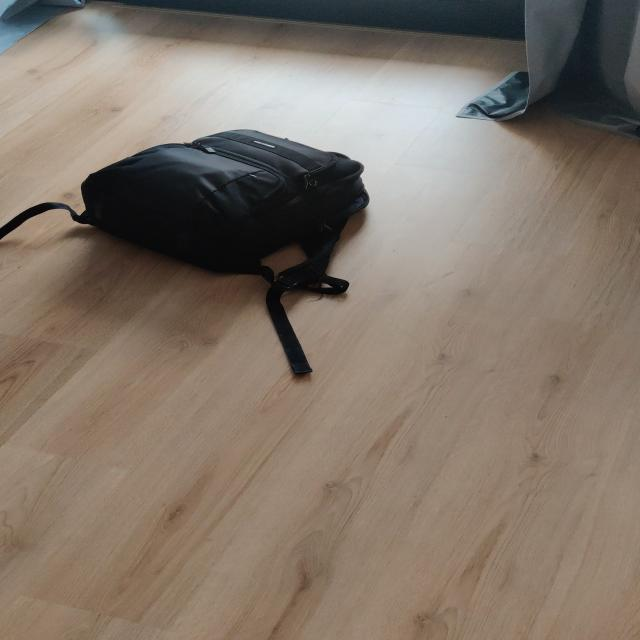backpack: (57, 124, 382, 278)
